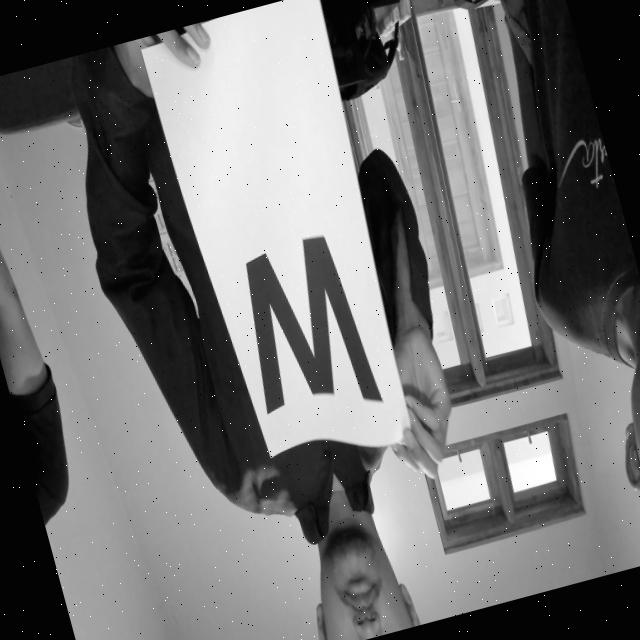w: (215, 217, 391, 447)
